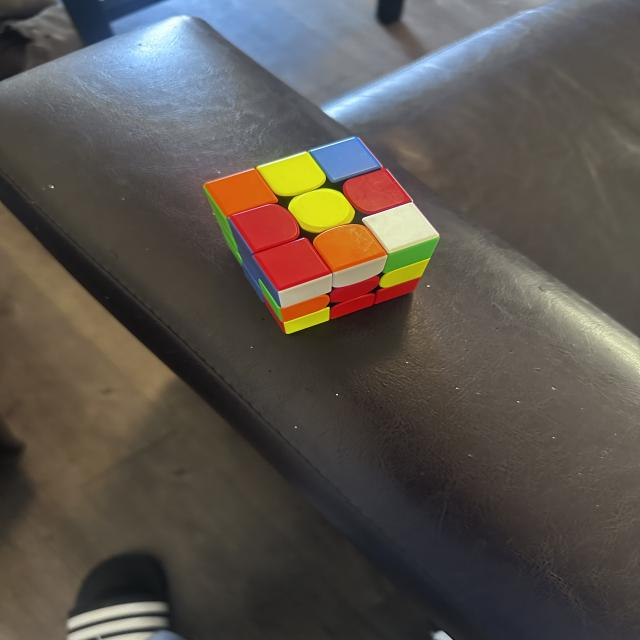sticker: (250, 238, 335, 308), (360, 202, 438, 270), (313, 224, 390, 288), (226, 203, 302, 255), (202, 168, 275, 218), (309, 136, 382, 184), (255, 150, 327, 198), (341, 168, 412, 215), (287, 188, 356, 234), (225, 219, 263, 285), (378, 236, 438, 277), (236, 247, 274, 309), (273, 294, 331, 329), (378, 258, 430, 290), (328, 276, 379, 306), (282, 306, 332, 334), (372, 276, 419, 304), (214, 208, 239, 260), (328, 293, 374, 320), (257, 278, 280, 320)
